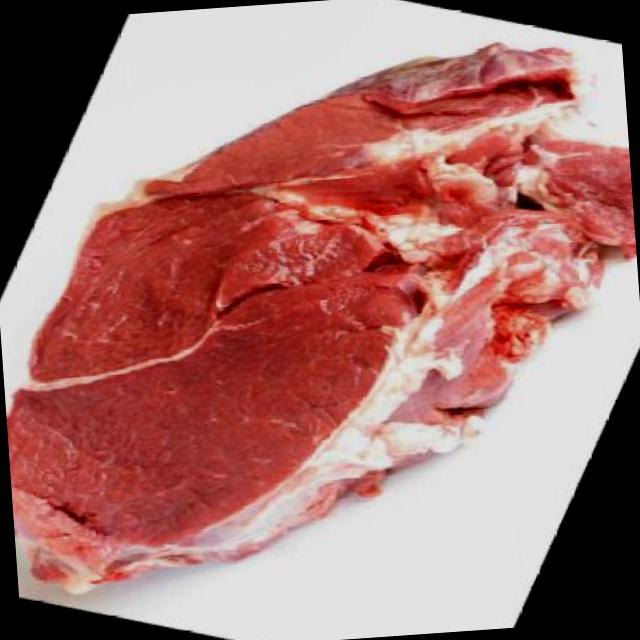beef: (0, 22, 640, 596)
